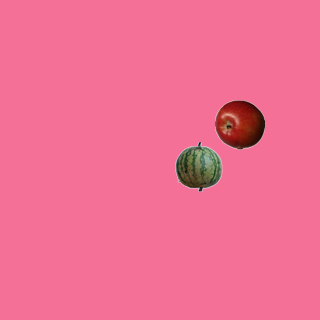Apple Braeburn: (214, 99, 264, 149)
Watermelon: (173, 141, 223, 191)
